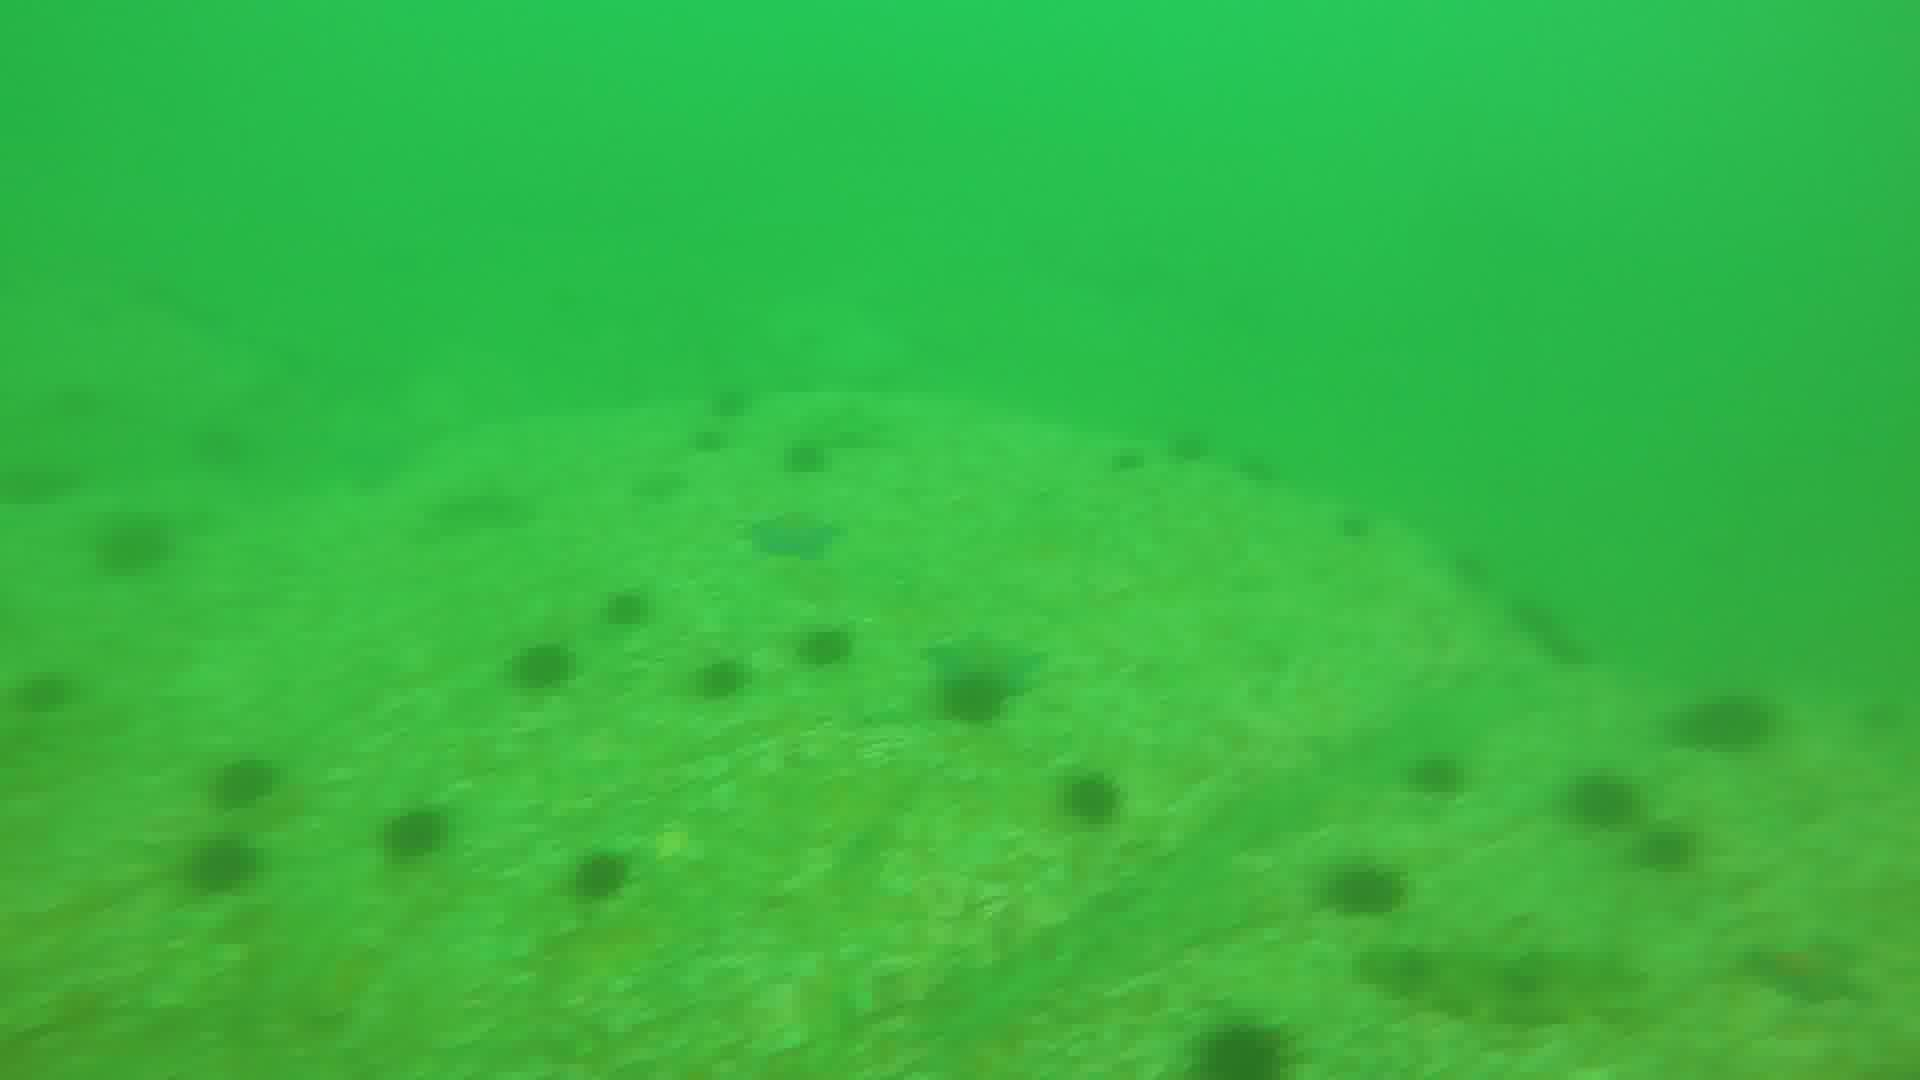echinus: (1195, 1021, 1304, 1080), (1677, 695, 1776, 758), (1323, 855, 1419, 919), (1564, 774, 1650, 839), (185, 833, 265, 898), (385, 796, 460, 862), (94, 516, 175, 570), (568, 847, 636, 909), (1062, 766, 1126, 825), (1642, 827, 1710, 881), (211, 754, 280, 807), (1406, 754, 1477, 804), (512, 644, 579, 696), (942, 670, 1007, 723), (17, 666, 84, 711), (698, 657, 760, 702), (803, 628, 864, 669), (785, 435, 833, 480), (607, 597, 654, 636), (684, 425, 735, 459), (707, 386, 757, 419), (1112, 440, 1154, 473)
holothurian: (1362, 943, 1644, 1021)
starfish: (1751, 936, 1866, 1009), (742, 512, 849, 560)
